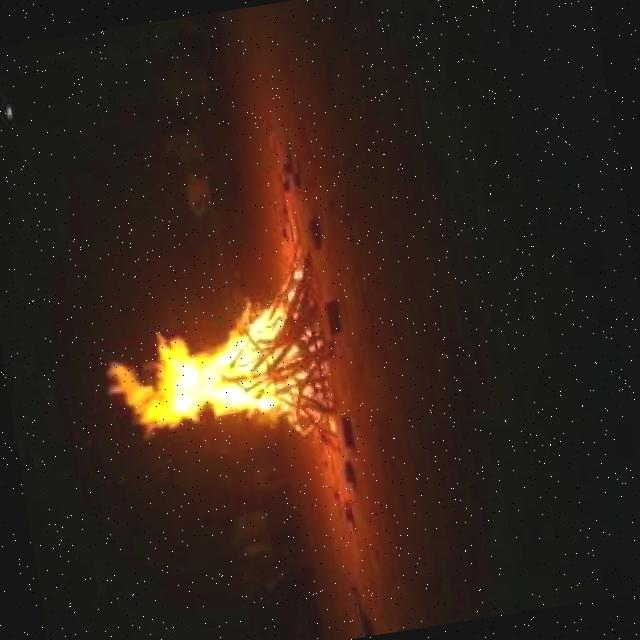fire: (91, 293, 313, 467)
